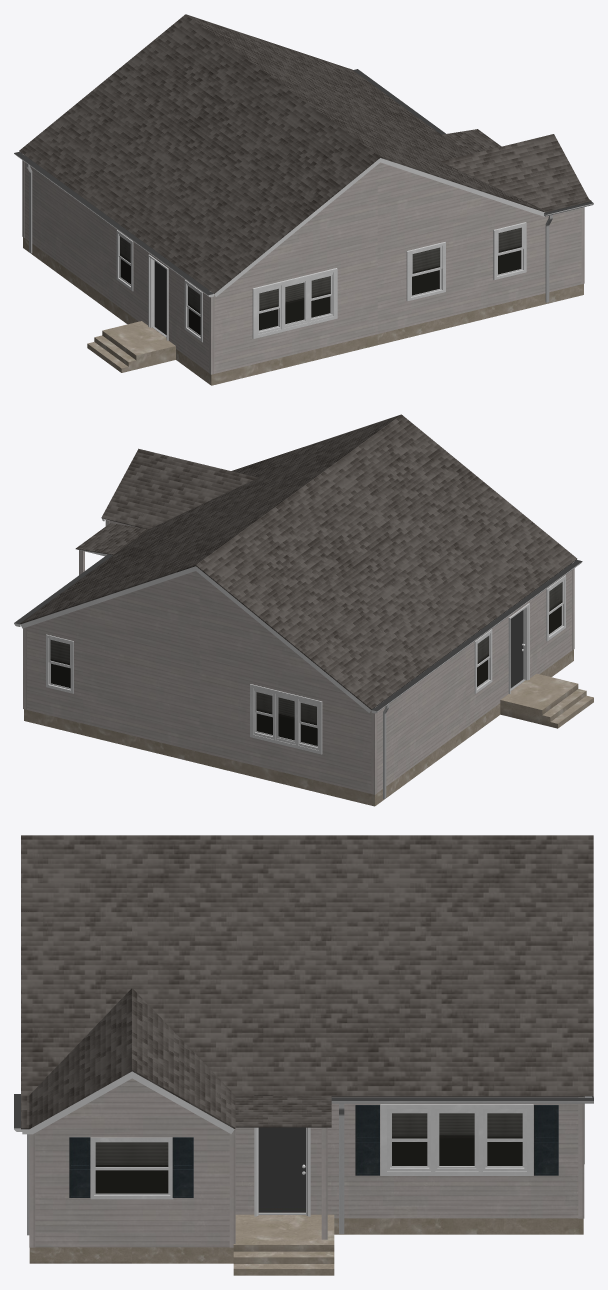
Rendered from home-7.glb.
3 views of the same model, one above another, from view 1: azimuth 30°, elevation 25°; view 2: azimuth 150°, elevation 25°; view 3: azimuth 270°, elevation 25° (orthographic). The views are drawn at different scales.
Parts seen in each view (by area): view 1: Home7_col_V3; view 2: Home7_col_V3; view 3: Home7_col_V3.
Boxes of the visible parts, x1,y1,x2,y2 form: Home7_col_V3: [14, 14, 593, 385]; Home7_col_V3: [14, 414, 593, 806]; Home7_col_V3: [14, 835, 593, 1275].
Size of the model in its own units: 14.98 by 6.15 by 11.54.
1 material, 1 textured.
